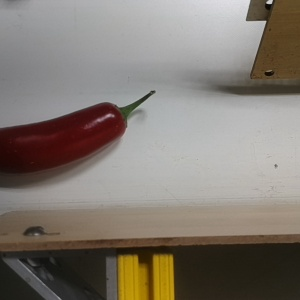Cut Point: (99, 99, 137, 133)
